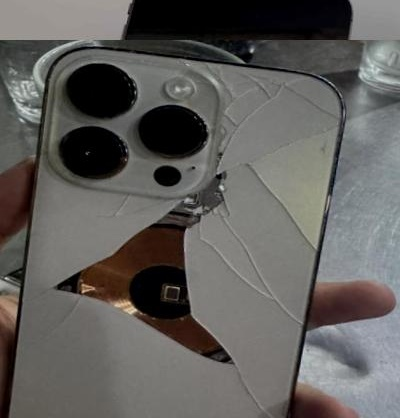physical_damage: (74, 218, 249, 367), (180, 176, 323, 327), (209, 99, 339, 189), (174, 56, 347, 108), (14, 285, 82, 354), (228, 362, 294, 418), (98, 192, 190, 227)
